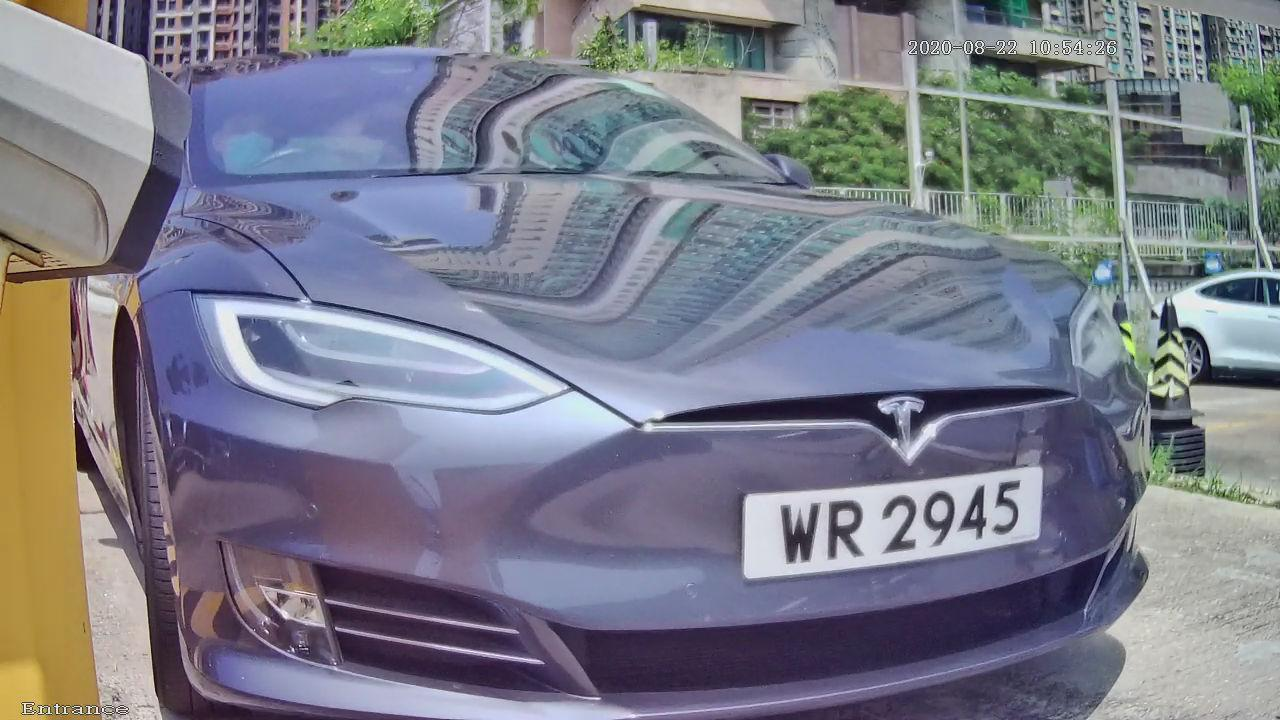License Plate: (722, 441, 1087, 606)
